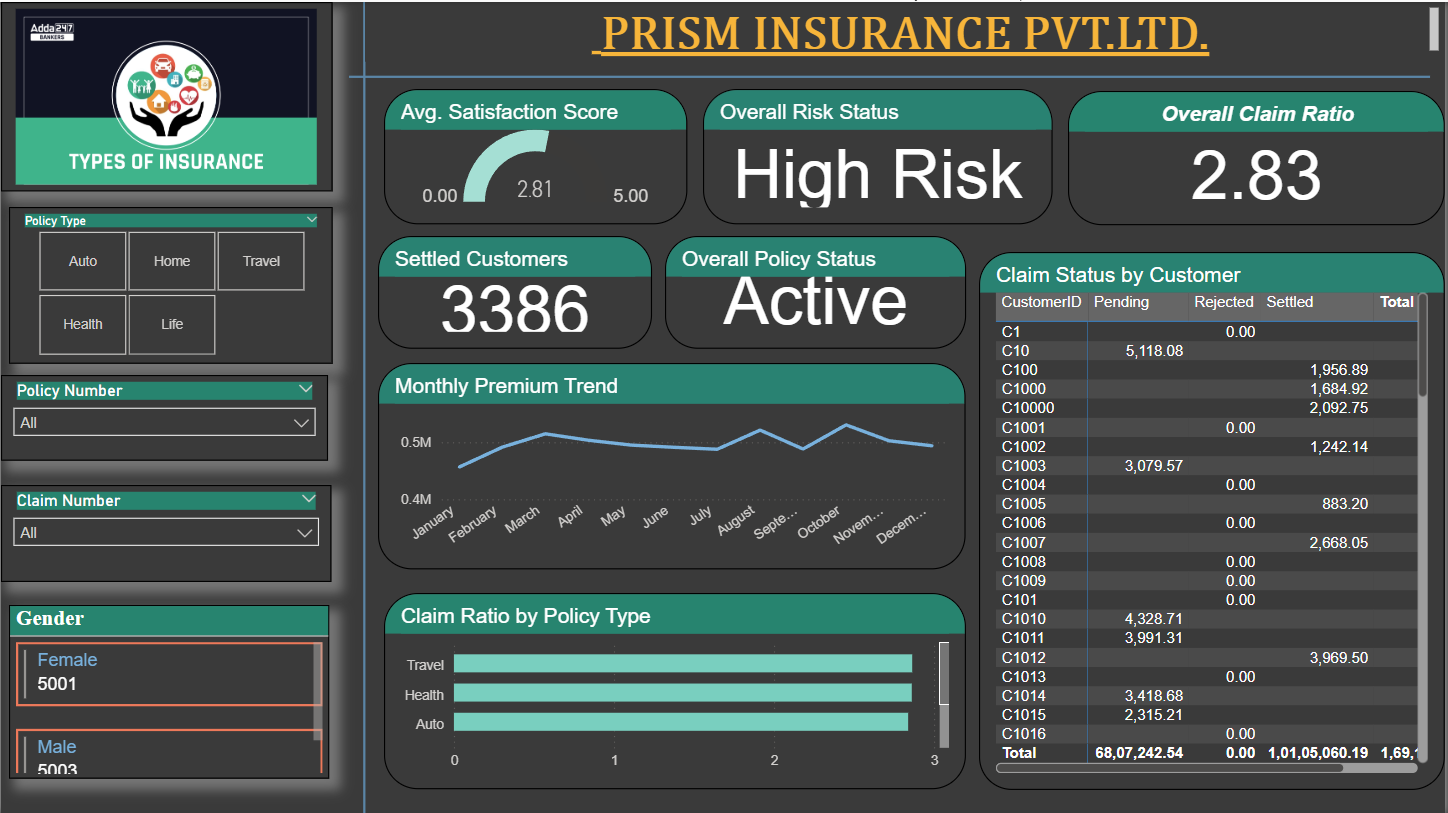

The page's visual inventory and layout, read from the dashboard file:
{"tool":"powerbi","page":{"name":"Dashboard 2","canvas":[1280,720],"ordinal":1},"visuals":[{"type":"image","box":[0,0,293.6,168.2],"z":0},{"type":"multiRowCard","title":"Gender ","fields":{"Values":["InsuranceData (1).Gender","CountNonNull(InsuranceData (1).Gender)"]},"box":[7.1,534.5,283.7,153.9],"z":1000},{"type":"shape","box":[180,0,284.3,720],"z":2000},{"type":"textbox","box":[322.9,0,957.1,52.9],"z":3000},{"type":"barChart","title":"Claim Ratio by Policy Type","fields":{"Y":["InsuranceData (1).Claim Ratio"],"Category":["InsuranceData (1).PolicyType"]},"box":[340,524.3,515.7,174.3],"z":4000},{"type":"card","title":"Overall Claim Ratio","fields":{"Values":["InsuranceData (1).Claim Ratio"]},"box":[945.7,78.6,334.3,118.6],"z":5000},{"type":"card","title":"Overall Risk Status","fields":{"Values":["InsuranceData (1).Risk Status"]},"box":[622.9,77.1,310,120],"z":6000},{"type":"gauge","title":"Avg. Satisfaction Score","fields":{"Y":["InsuranceData (1).avg satisfaction"]},"box":[340,77.1,268.6,120],"z":7000},{"type":"slicer","title":"Policy Types","fields":{"Values":["InsuranceData (1).PolicyType"]},"box":[7.1,181.4,287.1,138.6],"z":8000},{"type":"slicer","title":"Policy Number","fields":{"Values":["InsuranceData (1).PolicyNumber"]},"box":[0,331,290.1,76.1],"z":9000},{"type":"slicer","title":"Claim Number ","fields":{"Values":["InsuranceData (1).ClaimNumber"]},"box":[0,428.2,293,85.9],"z":10000},{"type":"card","title":"Settled Customers ","fields":{"Values":["InsuranceData (1).total people Paid Amount"]},"box":[334.3,207.1,242.9,100],"z":14000},{"type":"lineChart","title":"Monthly Premium Trend","fields":{"Category":["InsuranceData (1).PolicyStartDate.Variation.Date Hierarchy.Month"],"Y":["InsuranceData (1).monthly premium"]},"box":[334.3,320,521.4,182.9],"z":15000},{"type":"shape","box":[308.6,14.3,958.6,104.3],"z":18000},{"type":"pivotTable","title":"Claim Status by Customer","fields":{"Rows":["InsuranceData (1).CustomerID"],"Values":["Sum(InsuranceData (1).ClaimAmount)"],"Columns":["InsuranceData (1).ClaimStatus"]},"box":[867.1,221.4,412.9,477.1],"z":19000},{"type":"card","title":"Overall Policy Status ","fields":{"Values":["Min(InsuranceData (1).Active /Inactive )"]},"box":[588.6,207.1,267.1,100],"z":20000}]}

Visuals, with their boxes in screenshot pixels (x1, y1, x2, y2), scaled from the page's 1280x720 canvas onto the 1448x813 screenshot:
image: <bbox>0, 0, 332, 190</bbox>
"Gender " multiRowCard: <bbox>8, 604, 329, 777</bbox>
shape: <bbox>204, 0, 525, 812</bbox>
textbox: <bbox>365, 0, 1447, 60</bbox>
"Claim Ratio by Policy Type" barChart: <bbox>385, 592, 968, 789</bbox>
"Overall Claim Ratio" card: <bbox>1070, 89, 1447, 223</bbox>
"Overall Risk Status" card: <bbox>705, 87, 1055, 223</bbox>
"Avg. Satisfaction Score" gauge: <bbox>385, 87, 688, 223</bbox>
"Policy Types" slicer: <bbox>8, 205, 333, 361</bbox>
"Policy Number" slicer: <bbox>0, 374, 328, 460</bbox>
"Claim Number " slicer: <bbox>0, 484, 331, 581</bbox>
"Settled Customers " card: <bbox>378, 234, 653, 347</bbox>
"Monthly Premium Trend" lineChart: <bbox>378, 361, 968, 568</bbox>
shape: <bbox>349, 16, 1434, 134</bbox>
"Claim Status by Customer" pivotTable: <bbox>981, 250, 1447, 789</bbox>
"Overall Policy Status " card: <bbox>666, 234, 968, 347</bbox>
